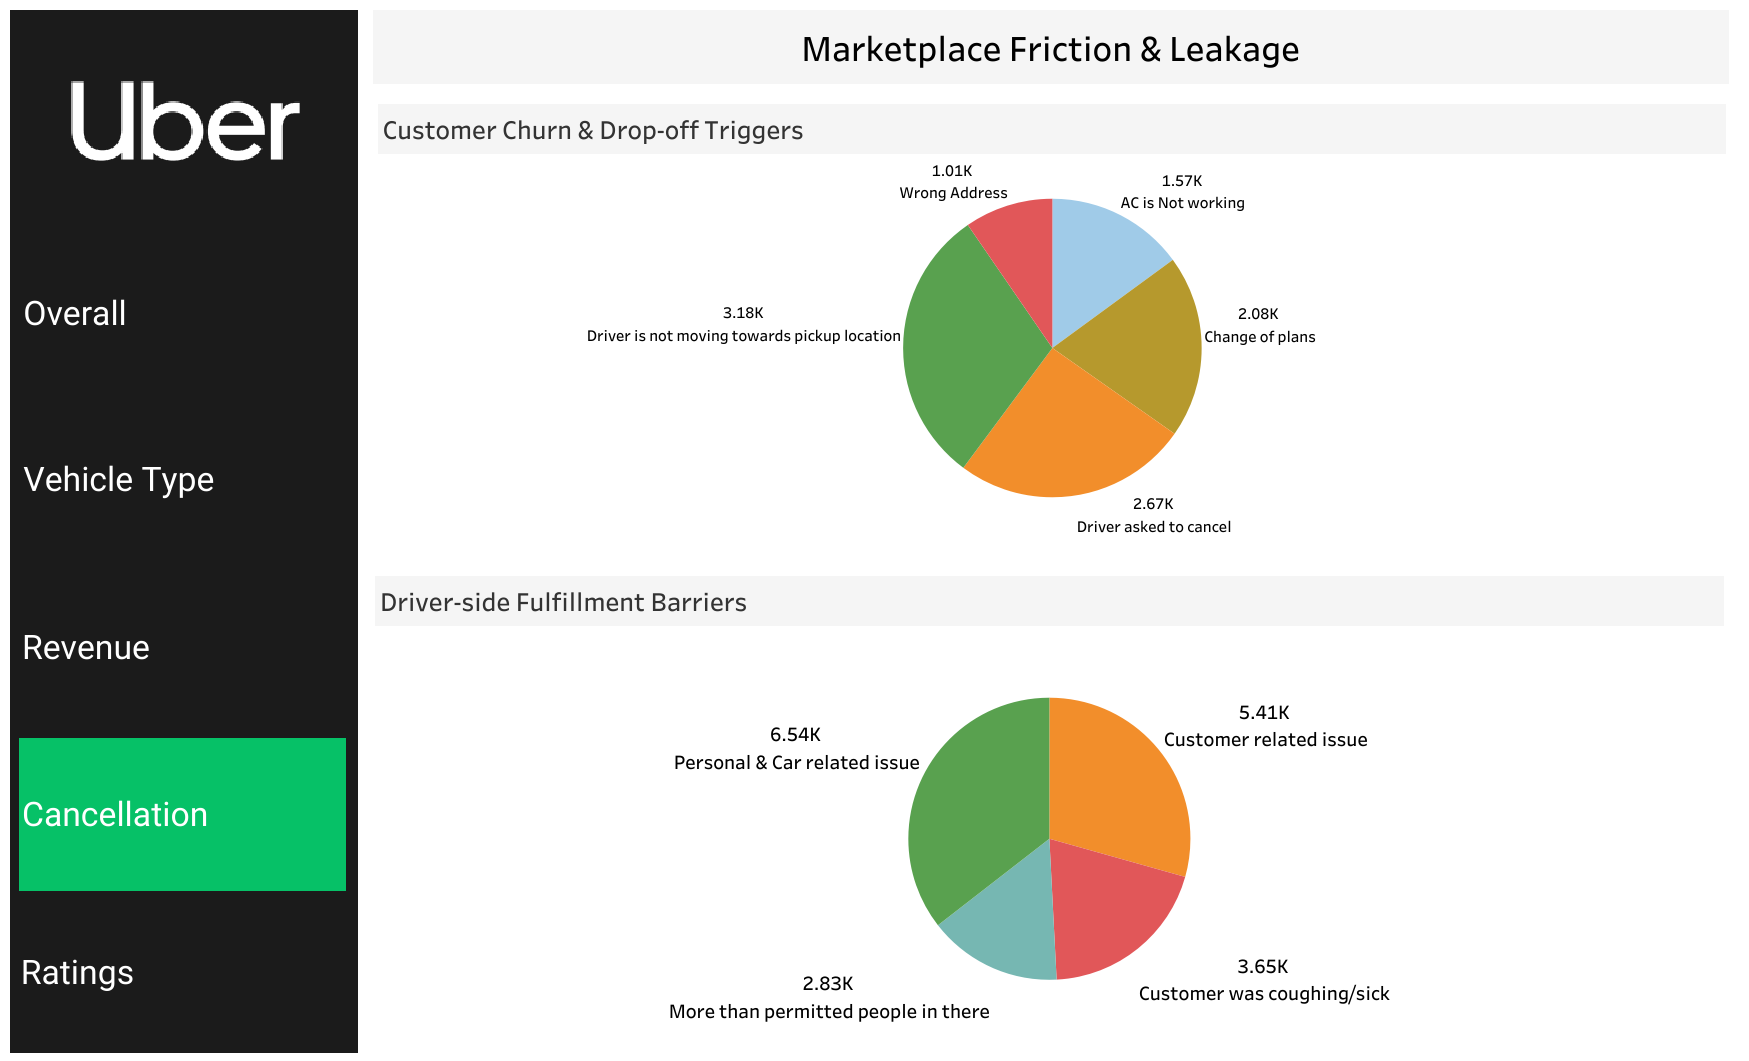

This screenshot's page, from the dashboard's own definition file:
{"tool":"tableau","page":{"name":"Cancellation","canvas":[1400,850],"ordinal":0},"visuals":[{"type":"text","box":[298,8,1085,59]},{"type":"image","param":"Image/Uber-White-Logo.wine.png","box":[15,18,268,158]},{"type":"worksheet","title":"7","mark":"Pie","box":[298,79,1087,355]},{"type":"text","box":[16,186,263,128]},{"type":"text","box":[16,321,262,124]},{"type":"text","box":[15,453,262,129]},{"type":"worksheet","title":"8","mark":"Pie","box":[296,457,1087,385]},{"type":"text","box":[15,590,262,123]},{"type":"text","box":[14,722,263,111]}]}

Visuals, with their boxes in screenshot pixels (x1, y1, x2, y2), scaled from the page's 1400x850 canvas onto the 1749x1061 screenshot:
text: [372, 10, 1728, 84]
image: [19, 22, 354, 220]
"7" worksheet (Pie marks): [372, 99, 1730, 542]
text: [20, 232, 349, 392]
text: [20, 401, 347, 555]
text: [19, 565, 346, 726]
"8" worksheet (Pie marks): [370, 570, 1728, 1051]
text: [19, 736, 346, 890]
text: [17, 901, 346, 1040]
